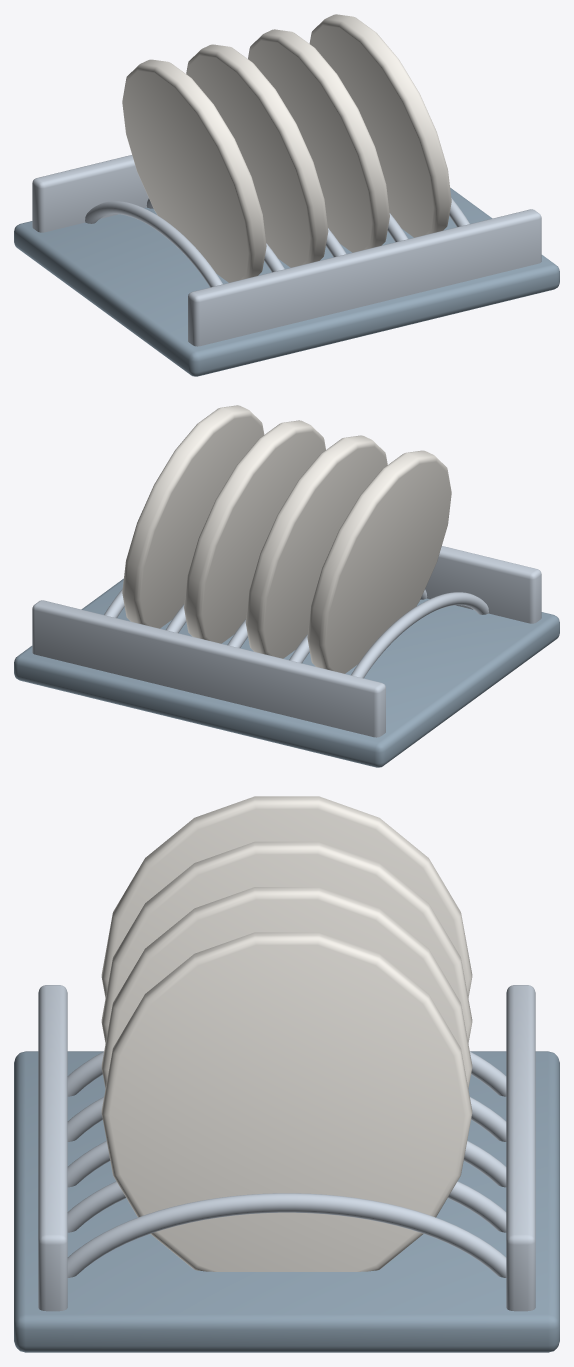
Rendered from dishrack_plates.gltf.
3 views of the same model, one above another, from view 1: azimuth 30°, elevation 25°; view 2: azimuth 150°, elevation 25°; view 3: azimuth 270°, elevation 25° (orthographic). The views are drawn at different scales.
Visible parts, largest first — view 1: RackInoxBase; view 2: RackInoxBase; view 3: RackInoxBase.
Part boxes in pixels (bbox=[...]): RackInoxBase: bbox=[14, 14, 559, 376]; RackInoxBase: bbox=[14, 405, 559, 767]; RackInoxBase: bbox=[14, 796, 559, 1352].
Size of the model in its own units: 0.66 by 0.3847 by 0.56.
